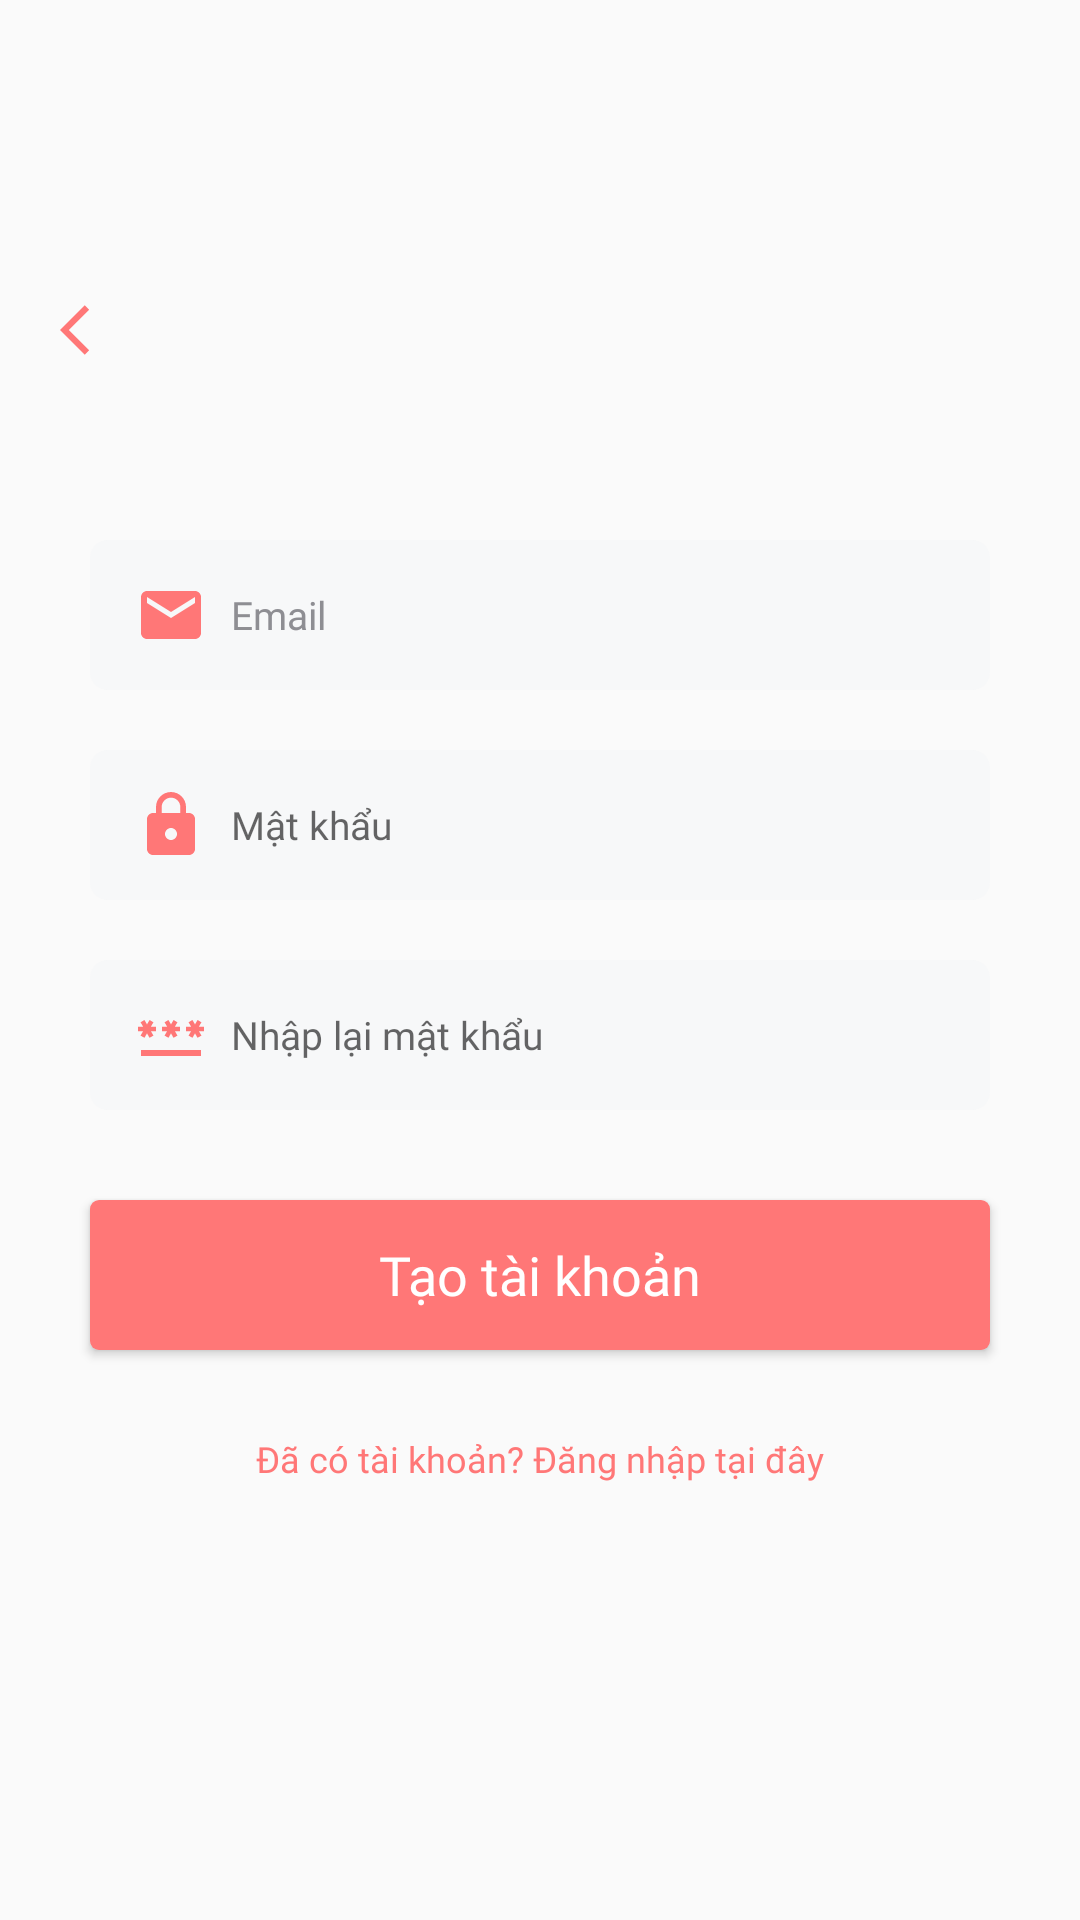

Point at icon controls on the screen. Image size 1080px x 1920px, points as point (x, y).
arrow back: point (74, 330)
